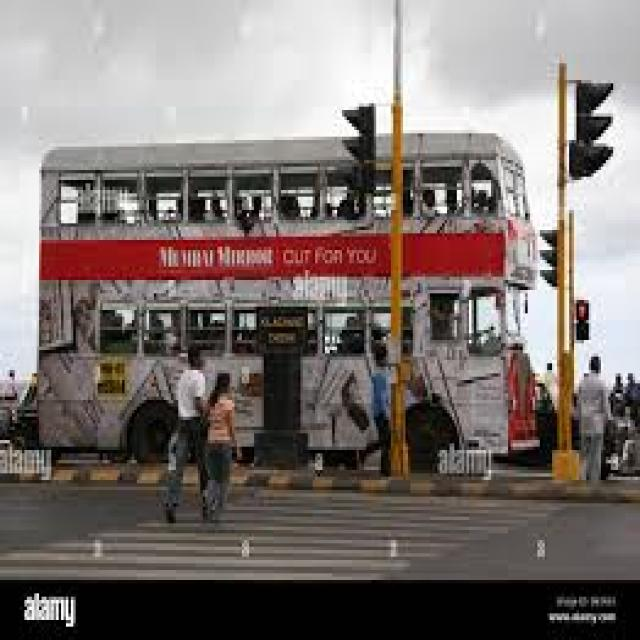electric pole ahead at: (386, 0, 419, 477)
traffic signal ahead at: (568, 74, 616, 181)
